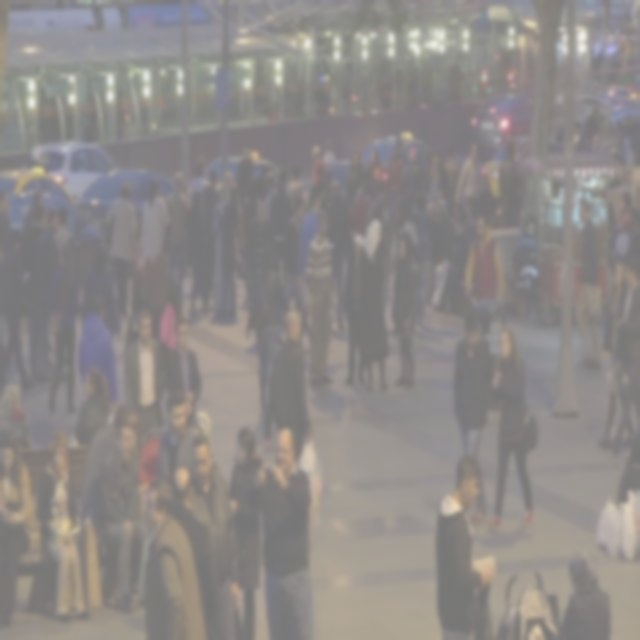pessoa: (210, 25, 640, 156), (132, 471, 214, 638), (253, 424, 316, 639), (432, 449, 496, 639), (32, 427, 93, 626), (486, 324, 543, 532), (187, 433, 240, 639), (268, 310, 320, 510), (98, 422, 152, 614), (452, 308, 494, 518), (227, 424, 266, 639), (594, 257, 636, 451), (171, 466, 217, 638), (82, 402, 132, 554), (123, 306, 169, 466), (20, 202, 60, 382), (0, 429, 35, 632), (246, 244, 284, 424), (246, 243, 284, 416), (570, 194, 606, 373), (186, 153, 292, 210), (302, 208, 334, 392), (0, 220, 33, 396), (358, 216, 391, 392), (46, 242, 78, 420), (102, 174, 139, 320), (137, 174, 173, 324), (78, 81, 169, 140), (608, 256, 635, 451), (76, 294, 118, 414), (560, 546, 614, 638), (82, 240, 124, 348), (282, 194, 312, 344), (323, 178, 352, 332), (390, 233, 418, 391), (77, 292, 116, 402), (146, 248, 174, 398), (464, 208, 506, 306), (167, 313, 203, 427), (411, 186, 438, 334), (162, 169, 190, 311), (246, 198, 274, 334), (342, 232, 366, 387), (184, 189, 211, 324), (222, 180, 246, 327), (212, 182, 237, 322), (157, 386, 196, 474), (73, 364, 112, 447), (42, 204, 64, 346), (268, 168, 293, 291), (202, 165, 226, 291), (454, 136, 486, 230), (421, 200, 444, 316), (187, 410, 219, 490), (448, 200, 478, 283), (0, 380, 34, 452), (76, 216, 108, 291), (616, 422, 640, 518), (299, 185, 324, 274), (497, 138, 521, 230), (388, 136, 406, 258), (391, 206, 418, 282), (429, 198, 456, 270), (446, 220, 468, 300), (608, 188, 630, 267), (404, 145, 422, 228), (51, 206, 74, 270), (185, 154, 212, 208), (572, 118, 588, 204), (234, 243, 253, 313), (428, 146, 450, 206), (236, 143, 255, 209), (509, 133, 524, 207), (22, 186, 46, 228), (346, 145, 364, 200), (588, 42, 603, 106), (361, 162, 384, 202), (627, 38, 638, 118), (581, 104, 601, 147), (394, 178, 412, 222), (264, 170, 278, 224), (516, 140, 530, 192), (371, 178, 388, 220), (311, 144, 326, 191), (516, 219, 538, 249), (0, 189, 12, 232), (178, 252, 192, 282), (322, 136, 337, 163), (222, 169, 233, 204), (367, 147, 380, 172), (142, 254, 154, 276)
